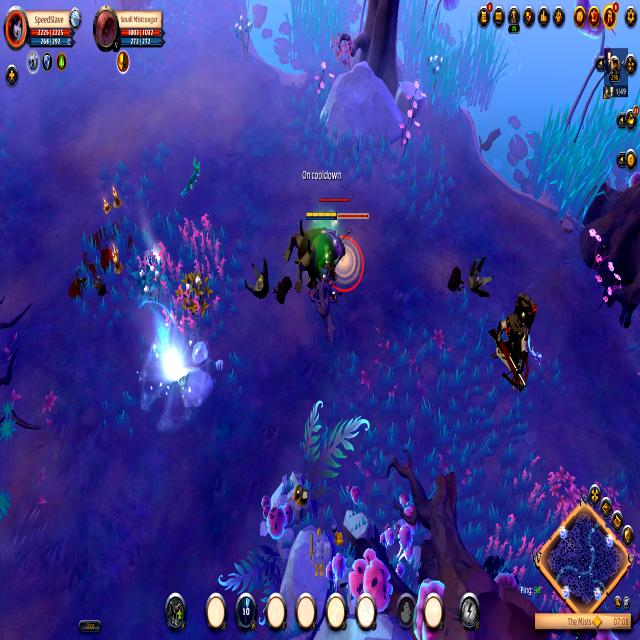hide: (135, 244, 168, 315), (175, 264, 210, 324), (310, 268, 338, 341), (228, 10, 256, 61)
ore: (285, 184, 370, 290), (486, 277, 550, 404)
